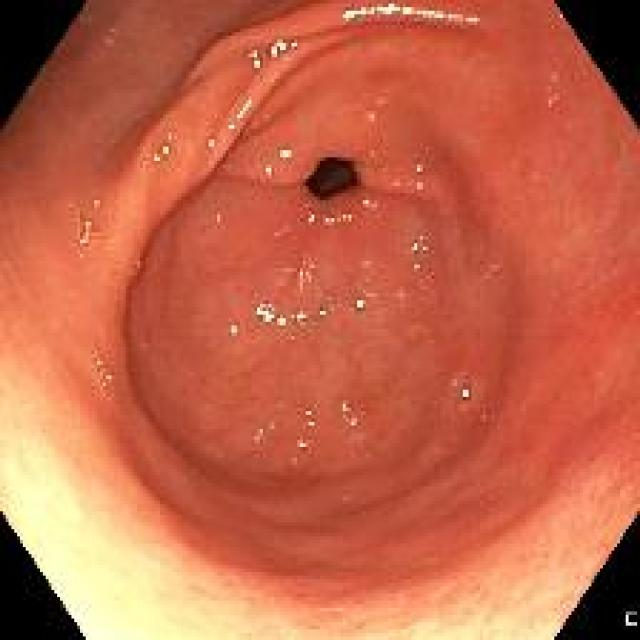bubbles: (78, 193, 111, 248), (89, 350, 117, 397), (406, 234, 434, 261)
contrast: (306, 156, 361, 197)
saturation: (8, 452, 196, 634), (436, 517, 612, 633)
specularity: (339, 4, 482, 31), (224, 97, 256, 134), (254, 299, 288, 329), (265, 35, 303, 60), (336, 392, 356, 428), (411, 150, 427, 194), (349, 289, 370, 315), (246, 46, 264, 75), (301, 403, 318, 433), (160, 126, 176, 157), (248, 422, 267, 448), (293, 430, 314, 452), (359, 188, 377, 209), (288, 306, 306, 326), (79, 220, 91, 247), (261, 159, 275, 179), (277, 142, 291, 161), (228, 322, 241, 341), (315, 308, 332, 322), (151, 145, 164, 163), (206, 130, 217, 149), (413, 242, 429, 253), (461, 385, 470, 400), (101, 375, 111, 388), (92, 359, 101, 372), (92, 195, 100, 208), (307, 212, 314, 225), (342, 212, 352, 221), (324, 216, 334, 221)
